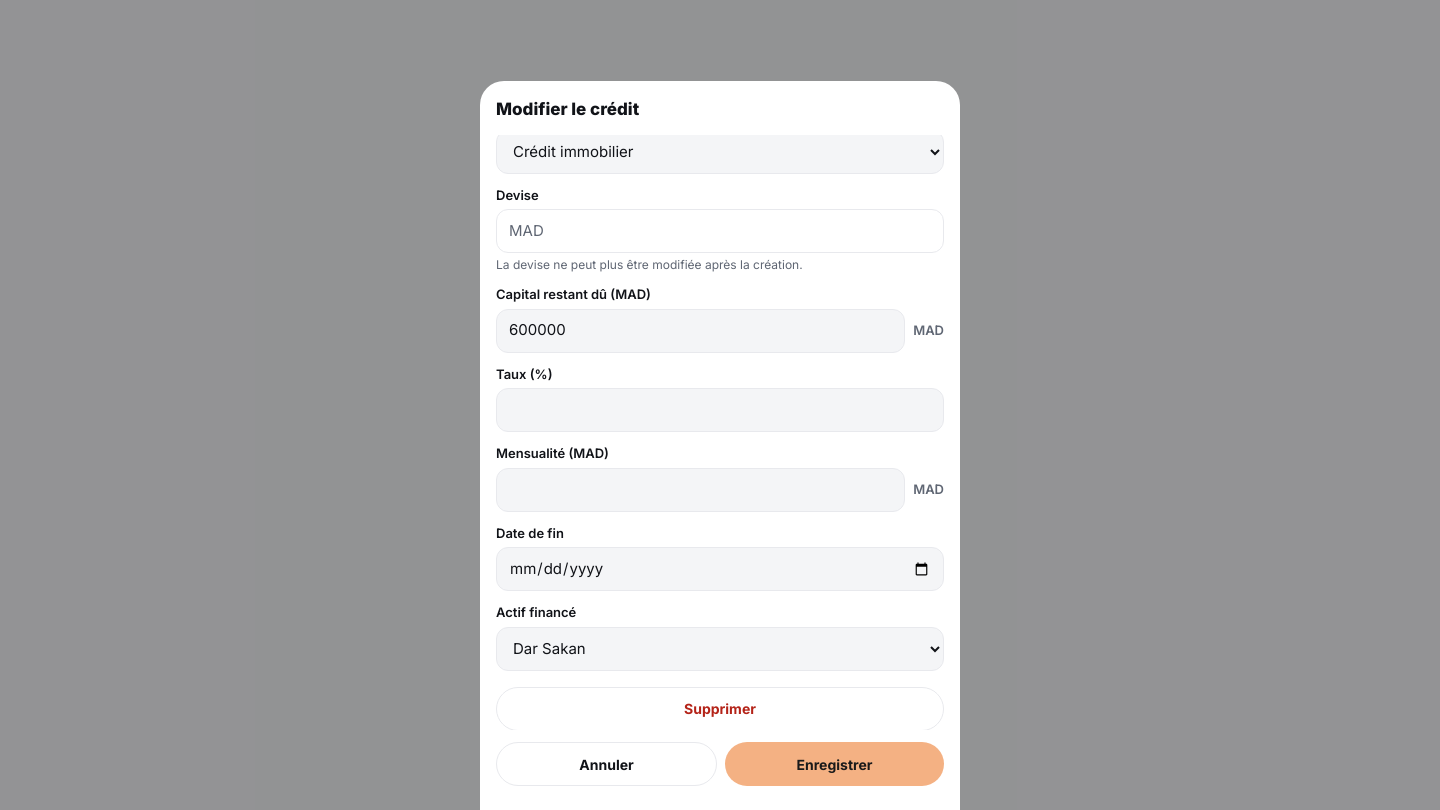
Test case: DebtSheet — édition › une suppression en échec reste affichée dans la feuille
(page scrolled)
Click the button "Supprimer" at (720, 708), box top-left (496, 686), bottom-right (944, 730)
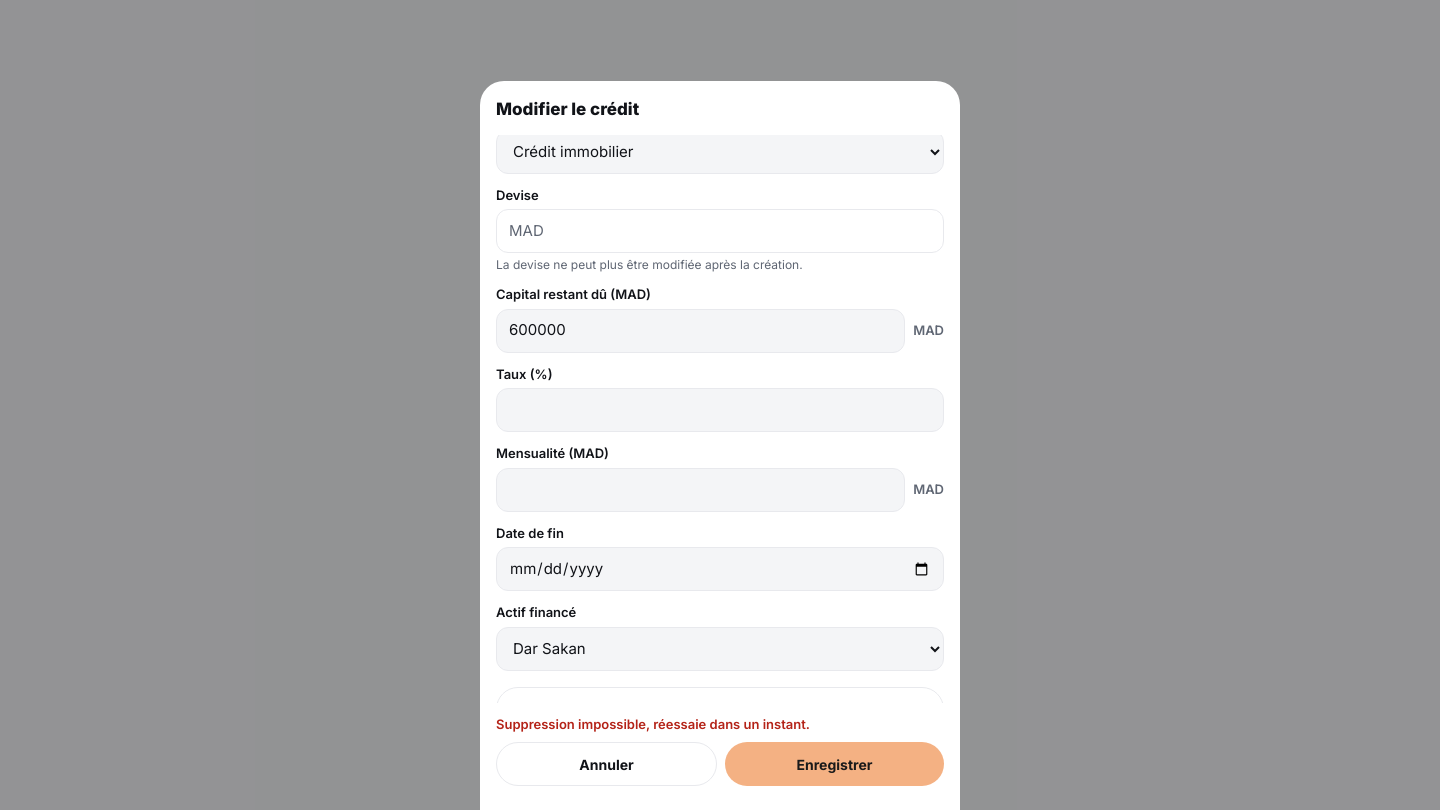
expect the message shows "Suppression impossible": met, box top-left (496, 716), bottom-right (810, 732)
